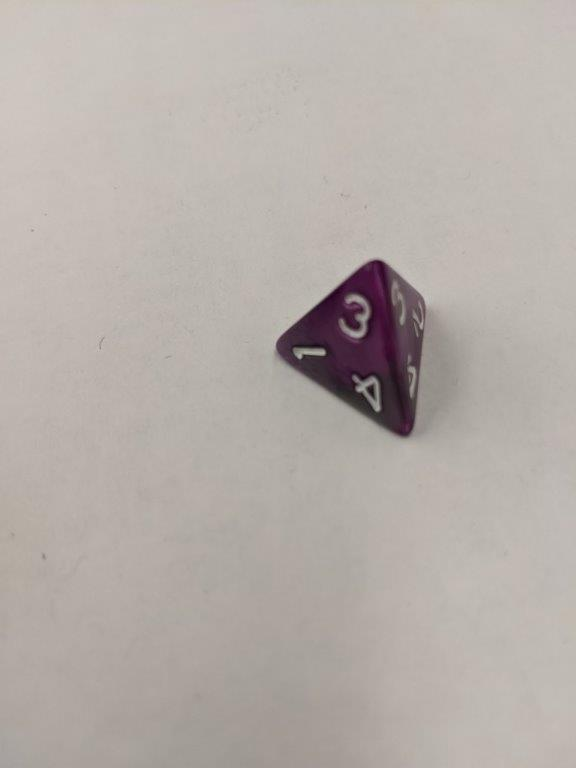d4-3: (271, 256, 431, 443)
